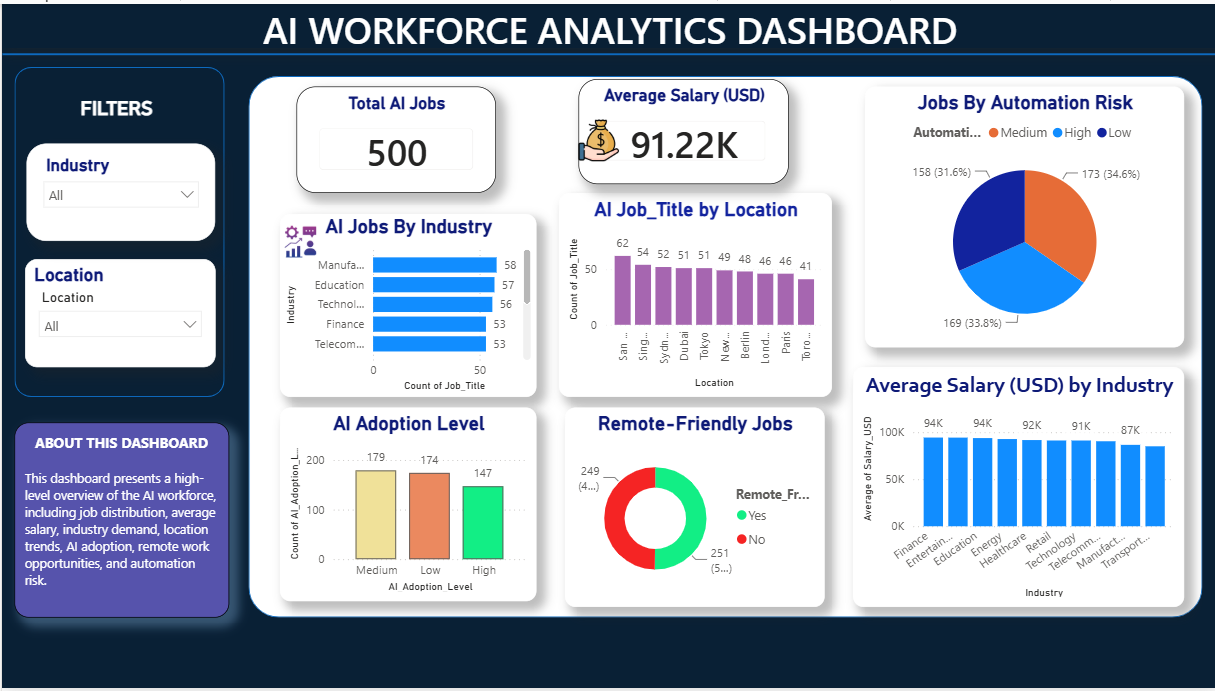

The dashboard page shown, as its layout file describes it:
{"tool":"powerbi","page":{"name":"Page 1","canvas":[1280,720],"ordinal":0},"visuals":[{"type":"shape","box":[14.2,66.3,221.1,347.4],"z":0},{"type":"shape","box":[260.5,75.8,1004.2,570],"z":1000},{"type":"lineClusteredColumnComboChart","title":"Average Salary (USD) by Industry","fields":{"Category":["Sheet1.Industry"],"Y":["Avg(Sheet1.Salary_USD)"]},"box":[896.9,382.1,349,252.6],"z":2000},{"type":"clusteredBarChart","title":"AI Jobs By Industry","fields":{"Category":["Sheet1.Industry"],"Y":["CountNonNull(Sheet1.Job_Title)"]},"box":[293.7,221.1,270,192.6],"z":3000},{"type":"clusteredColumnChart","title":"AI Job_Title by Location","fields":{"Category":["Sheet1.Location"],"Y":["CountNonNull(Sheet1.Job_Title)"]},"box":[587.4,198.9,287.4,214.7],"z":4000},{"type":"donutChart","title":"Remote-Friendly Jobs","fields":{"Category":["Sheet1.Remote_Friendly"],"Y":["CountNonNull(Sheet1.Job_Title)"]},"box":[593.7,424.7,273.2,210],"z":5000},{"type":"columnChart","title":"AI Adoption Level","fields":{"Category":["Sheet1.AI_Adoption_Level"],"Y":["CountNonNull(Sheet1.AI_Adoption_Level)"]},"box":[293.7,424.7,270,203.7],"z":6000},{"type":"pieChart","title":"Jobs By Automation Risk","fields":{"Category":["Sheet1.Automation_Risk"],"Y":["CountNonNull(Sheet1.Automation_Risk)"]},"box":[909.5,86.8,336.3,274.7],"z":7000},{"type":"cardVisual","title":"Total AI Jobs","fields":{"Data":["CountNonNull(Sheet1.Job_Title)"]},"box":[311.1,86.8,210,112.1],"z":8000},{"type":"cardVisual","title":"Average Salary (USD)","fields":{"Data":["Avg(Sheet1.Salary_USD)"]},"box":[607.9,78.9,221.1,110.5],"z":9000},{"type":"image","box":[603.2,121.6,52.1,44.2],"z":10000},{"type":"image","box":[294,232,42,36],"z":11000},{"type":"textbox","title":"AI WORKFORCE ANALYTICS DASHBOARD","box":[1.6,0,1279,45.8],"z":12000},{"type":"slicer","title":"Location","fields":{"Values":["Sheet1.Location"]},"box":[25.3,268.4,200.5,113.7],"z":13000},{"type":"slicer","fields":{"Values":["Sheet1.Industry"]},"box":[26.8,146.8,198.9,102.6],"z":14000},{"type":"textbox","box":[14.2,440.5,225.8,205.3],"z":15000},{"type":"shape","box":[1.6,7.9,1277.4,90],"z":16000},{"type":"textbox","title":"FILTERS","box":[25.3,97.9,192.6,28.4],"z":17000}]}

Visuals, with their boxes in screenshot pixels (x1, y1, x2, y2), scaled from the page's 1280x720 canvas onto the 1215x691 screenshot:
shape: [13, 64, 223, 397]
shape: [247, 73, 1200, 620]
"Average Salary (USD) by Industry" lineClusteredColumnComboChart: [851, 367, 1183, 609]
"AI Jobs By Industry" clusteredBarChart: [279, 212, 535, 397]
"AI Job_Title by Location" clusteredColumnChart: [558, 191, 830, 397]
"Remote-Friendly Jobs" donutChart: [564, 408, 823, 609]
"AI Adoption Level" columnChart: [279, 408, 535, 603]
"Jobs By Automation Risk" pieChart: [863, 83, 1183, 347]
"Total AI Jobs" cardVisual: [295, 83, 495, 191]
"Average Salary (USD)" cardVisual: [577, 76, 787, 182]
image: [573, 117, 622, 159]
image: [279, 223, 319, 257]
"AI WORKFORCE ANALYTICS DASHBOARD" textbox: [2, 0, 1214, 44]
"Location" slicer: [24, 258, 214, 367]
slicer - Sheet1.Industry: [25, 141, 214, 239]
textbox: [13, 423, 228, 620]
shape: [2, 8, 1214, 94]
"FILTERS" textbox: [24, 94, 207, 121]
